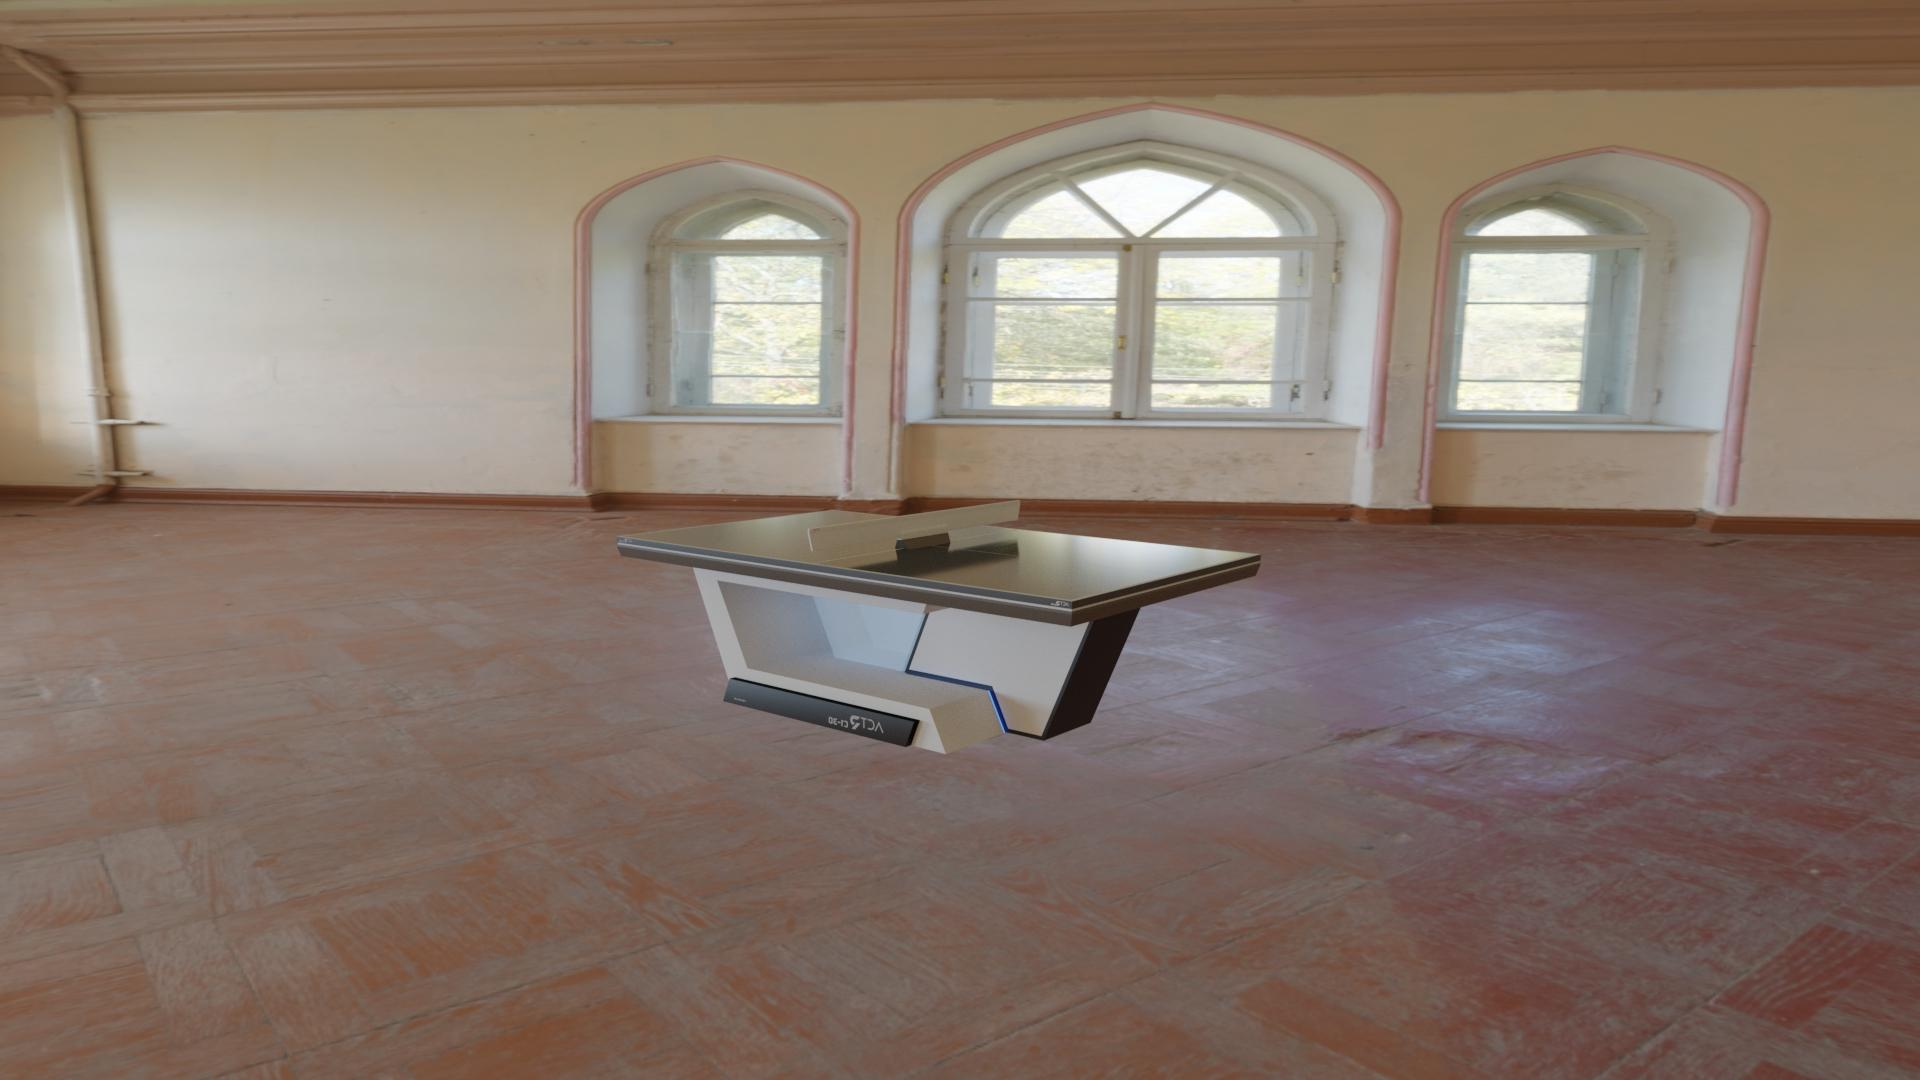table: (622, 510, 1255, 600)
